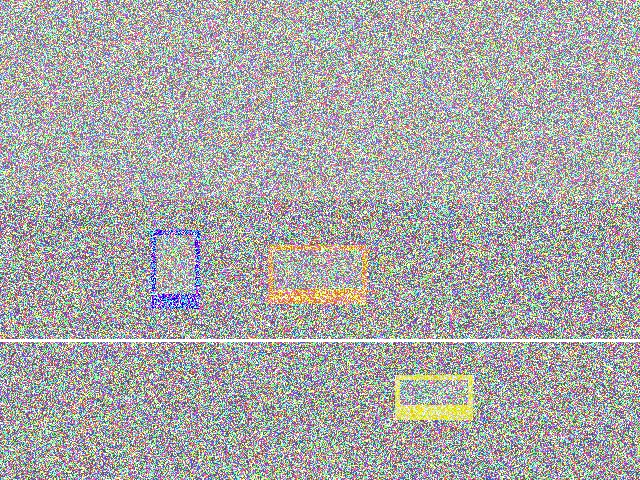bus: (441, 213, 569, 319), (446, 200, 574, 265)
truck: (222, 318, 311, 375)
